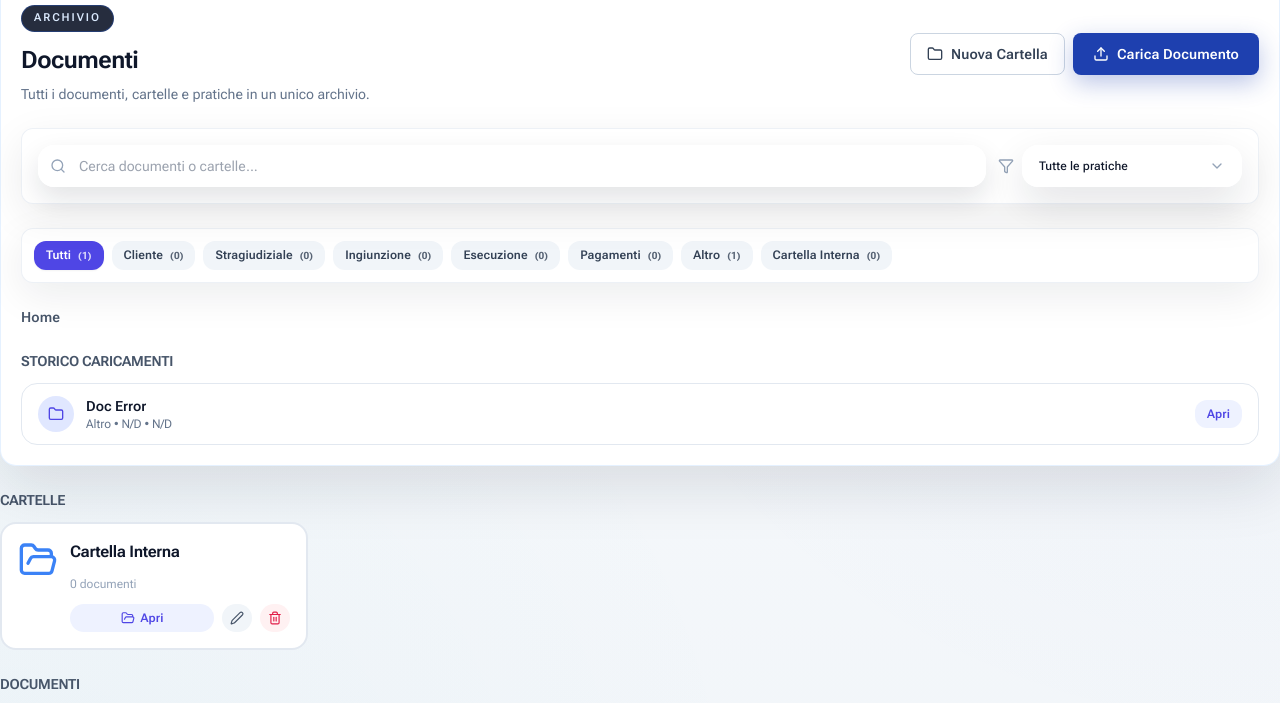
Test case: DocumentiPage actions › rimuove il filtro pratica dalla empty state
Expected: the 1st heading "Documenti" is shown, left=21, top=46, right=138, bottom=74
Step 1. Click the button "Tutte le pratiche" → (1132, 166), box left=1022, top=144, right=1242, bottom=186
(page scrolled)
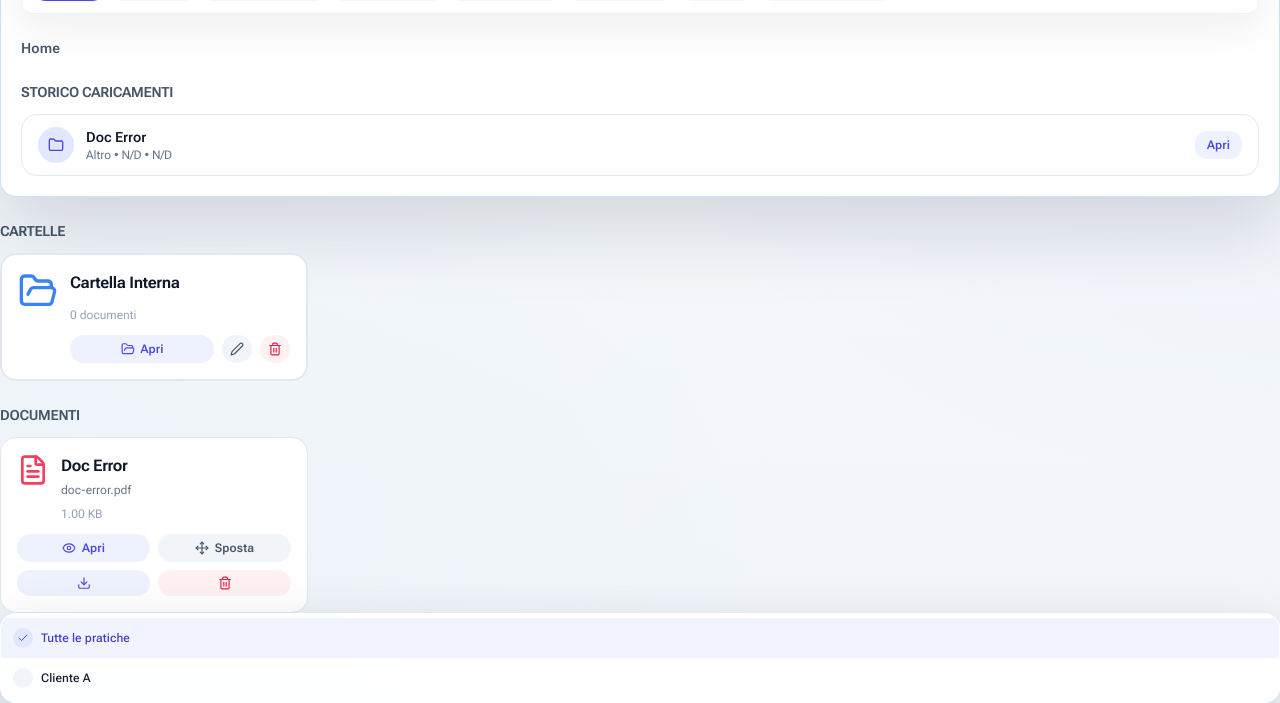
Step 2. Click the button "Cliente A" → (66, 678), box left=1, top=658, right=1279, bottom=698
(page scrolled)
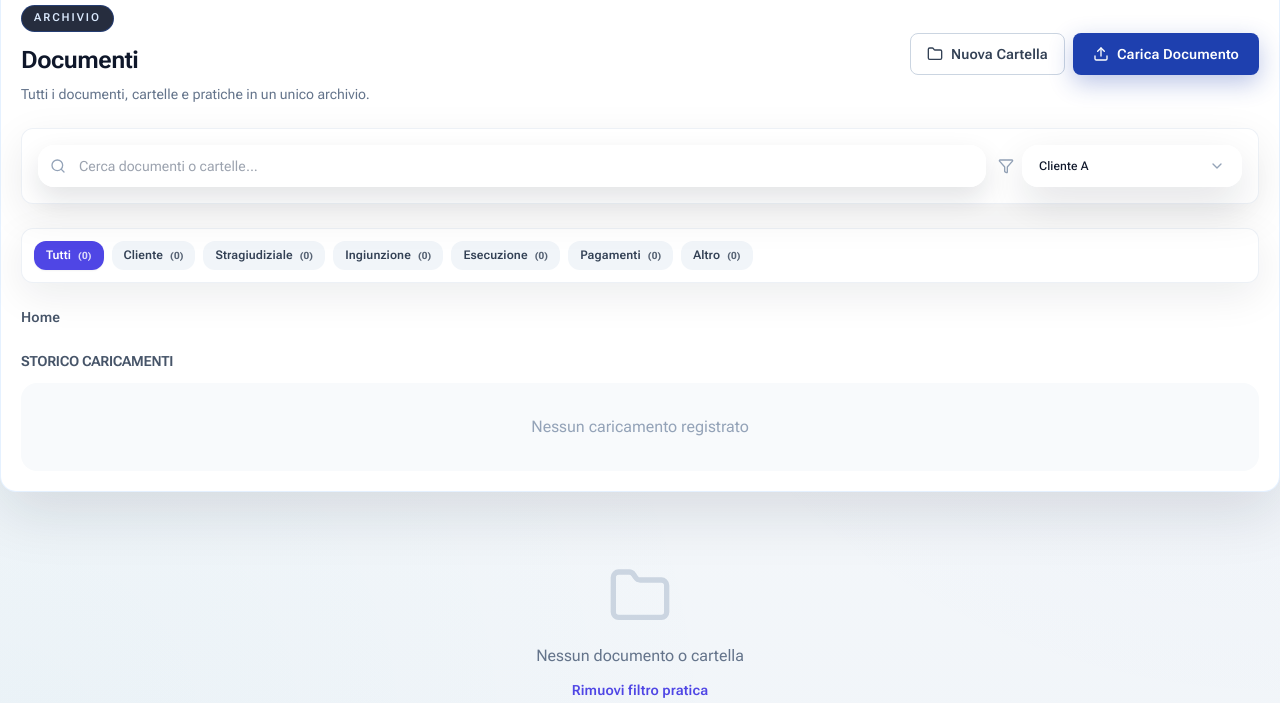
Step 3. Click the button "Rimuovi filtro pratica" → (640, 690), box left=572, top=680, right=708, bottom=700
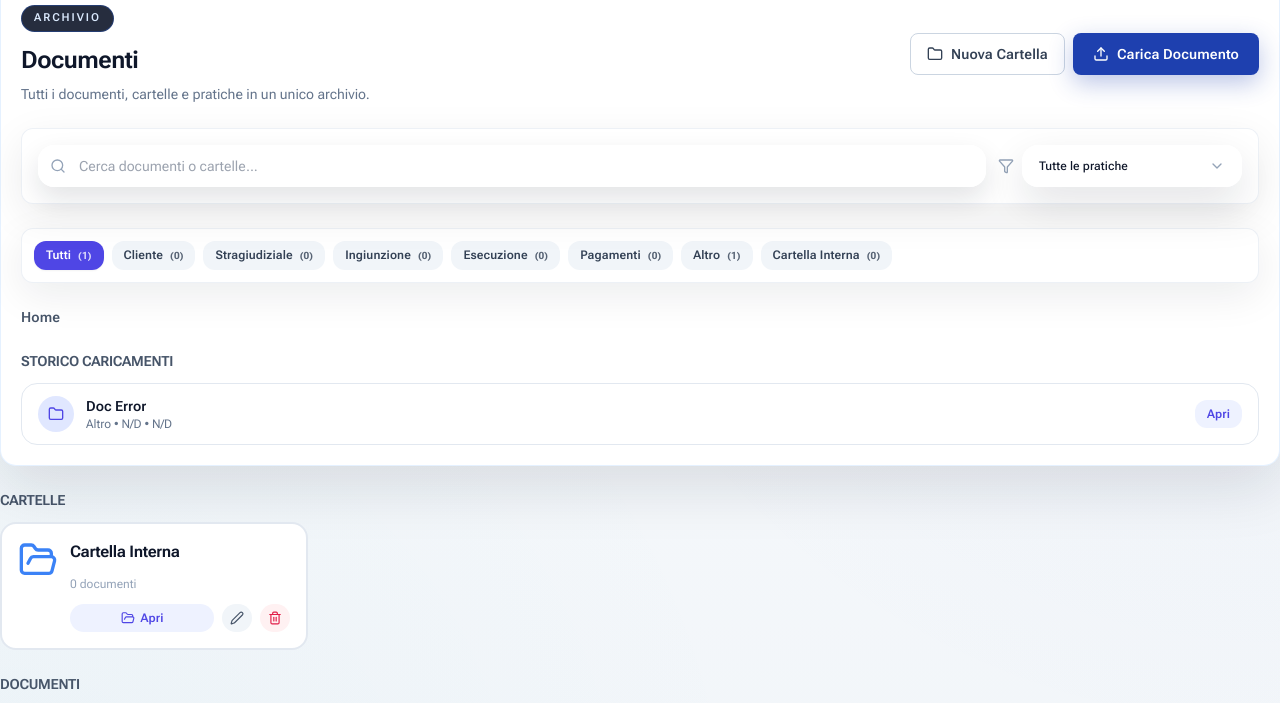
Expected: the button "Rimuovi filtro pratica" is gone
